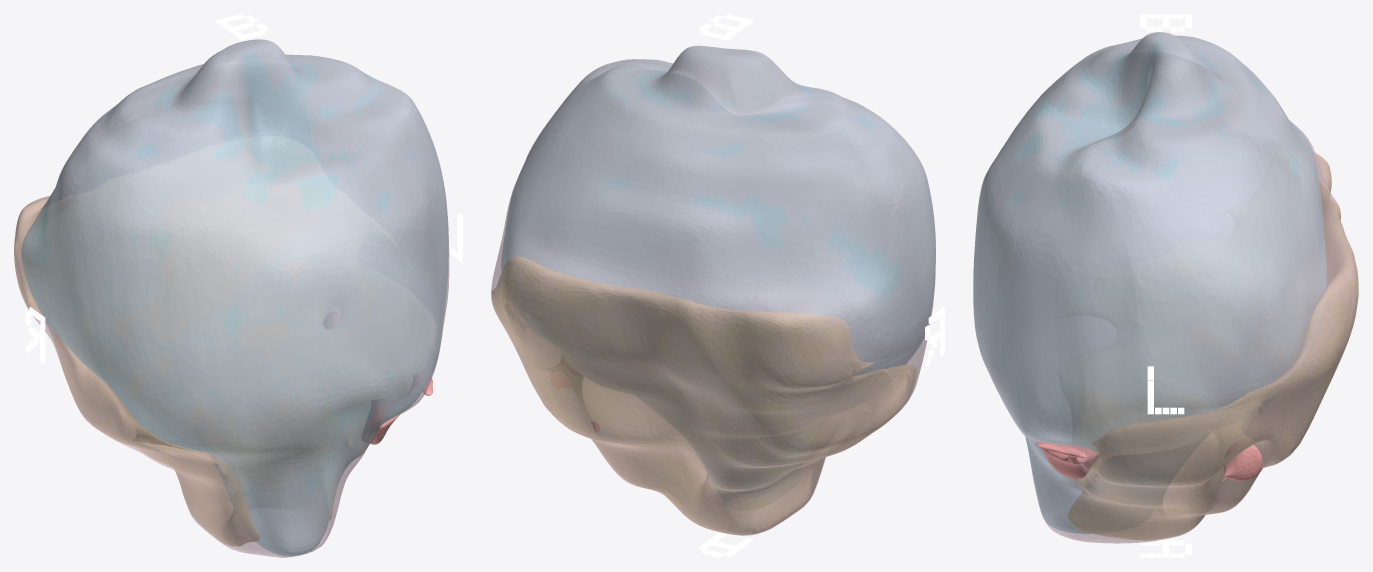
The picture shows the model from 3 angles, left to right: view 1: azimuth 30°, elevation 25°; view 2: azimuth 150°, elevation 25°; view 3: azimuth 270°, elevation 25°; orthographic projection. The views are drawn at different scales.
Parts seen in each view (by area): view 1: prostate_gland, transition_zone, peripheral_zone, lesion_01, pv_ar_marker_B, pv_ar_marker_R; view 2: prostate_gland, transition_zone, peripheral_zone, pv_ar_marker_B, pv_ar_marker_R, pv_ar_marker_A; view 3: prostate_gland, transition_zone, peripheral_zone, lesion_01, pv_ar_marker_B, pv_ar_marker_A, pv_ar_marker_L.
Boxes of the visible parts, x1,y1,x2,y2 form: prostate_gland: (14,39,449,557); transition_zone: (21,40,448,556); peripheral_zone: (14,197,364,546); lesion_01: (323,312,432,444); pv_ar_marker_B: (216,14,268,40); pv_ar_marker_R: (25,307,45,363); prostate_gland: (491,45,935,535); transition_zone: (501,46,935,476); peripheral_zone: (491,257,916,534); pv_ar_marker_B: (699,14,752,40); pv_ar_marker_R: (925,307,944,367); pv_ar_marker_A: (699,532,752,557); prostate_gland: (973,32,1358,543); transition_zone: (973,33,1326,533); peripheral_zone: (1068,153,1358,540); lesion_01: (1036,441,1262,481); pv_ar_marker_B: (1140,14,1191,31); pv_ar_marker_A: (1140,540,1191,557); pv_ar_marker_L: (1147,366,1184,414).
Bounding box in the file's own units: 0.0616 × 0.0723 × 0.0478.
